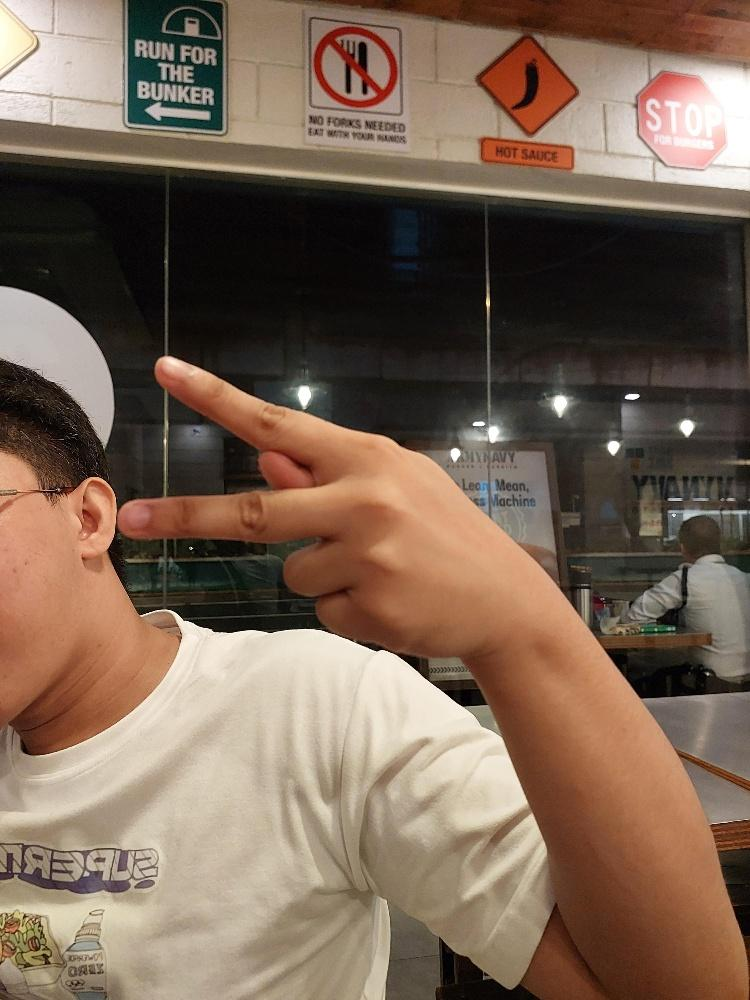k: (112, 353, 521, 659)
